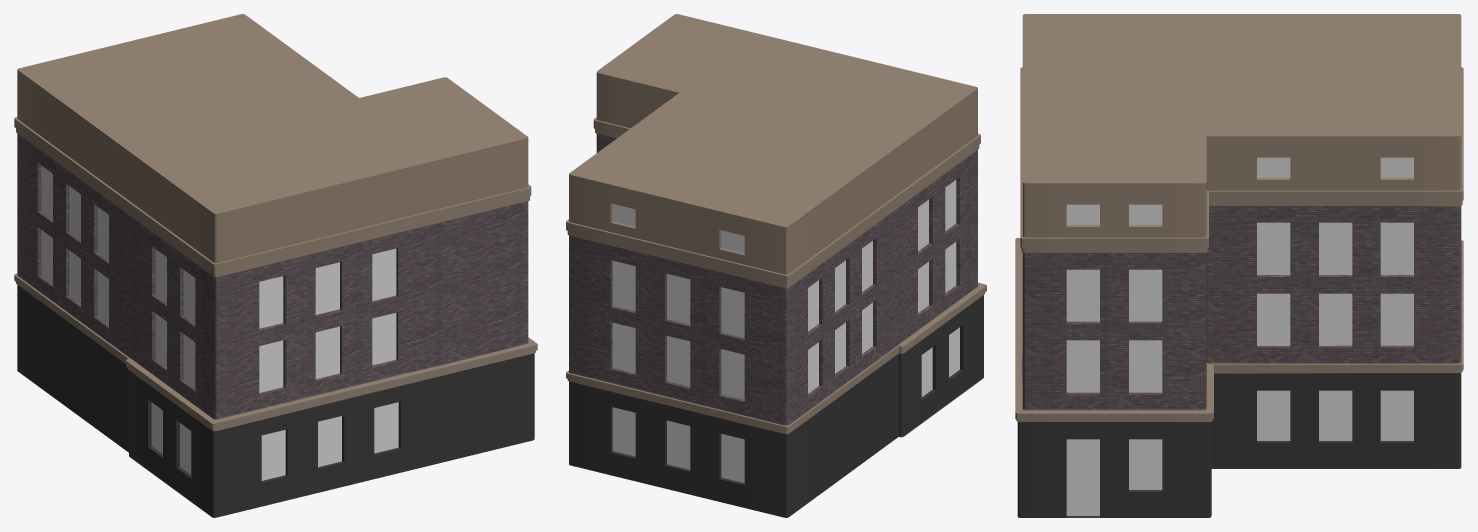
The model's file is budynek06.FBX.
3 renders of one model, left to right at view 1: azimuth 30°, elevation 25°; view 2: azimuth 150°, elevation 25°; view 3: azimuth 270°, elevation 25°, orthographic. The views are drawn at different scales.
Parts seen in each view (by area): view 1: Box003, Object002; view 2: Box003, Object002; view 3: Box003, Object002.
Boxes of the visible parts, x1=… form: Box003: x1=14, y1=14, x2=537, y2=517; Object002: x1=41, y1=165, x2=398, y2=480; Box003: x1=566, y1=14, x2=986, y2=517; Object002: x1=612, y1=180, x2=959, y2=483; Box003: x1=1015, y1=14, x2=1463, y2=517; Object002: x1=1066, y1=157, x2=1413, y2=515.
Bounding box in the file's own units: 16633 × 14692 × 17959.
